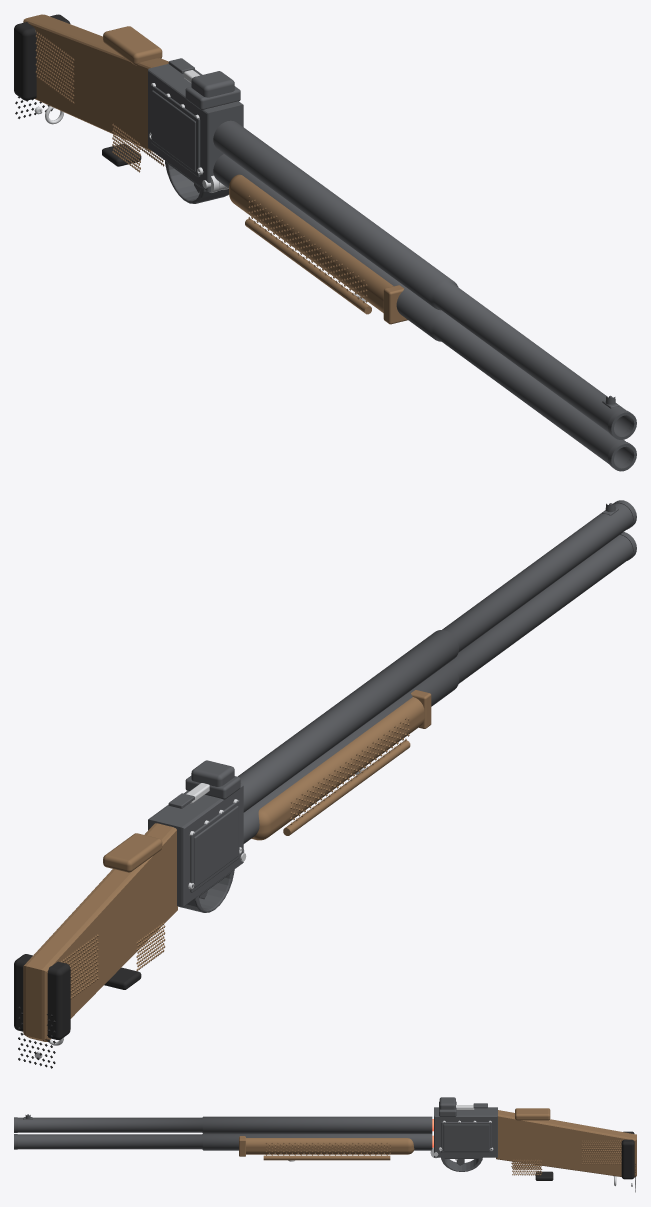
File: citori.glb
3 views of the same model, one above another, from view 1: azimuth 30°, elevation 25°; view 2: azimuth 150°, elevation 25°; view 3: azimuth 270°, elevation 25° (orthographic). The views are drawn at different scales.
Parts seen in each view (by area): view 1: action/gunmetal, over-under-shotgun, action/walnut; view 2: over-under-shotgun, action/gunmetal, action/walnut; view 3: action/gunmetal, over-under-shotgun, action/walnut.
Part boxes in pixels (box(x1,y1,x2,y2)): action/gunmetal: box(191, 71, 636, 471); over-under-shotgun: box(14, 14, 243, 203); action/walnut: box(229, 174, 407, 324); over-under-shotgun: box(14, 776, 246, 1068); action/gunmetal: box(191, 500, 636, 843); action/walnut: box(251, 690, 431, 840); action/gunmetal: box(14, 1097, 455, 1150); over-under-shotgun: box(430, 1101, 636, 1192); action/walnut: box(239, 1136, 414, 1160).
Size of the model in its own units: 0.05 by 0.165 by 1.06.
